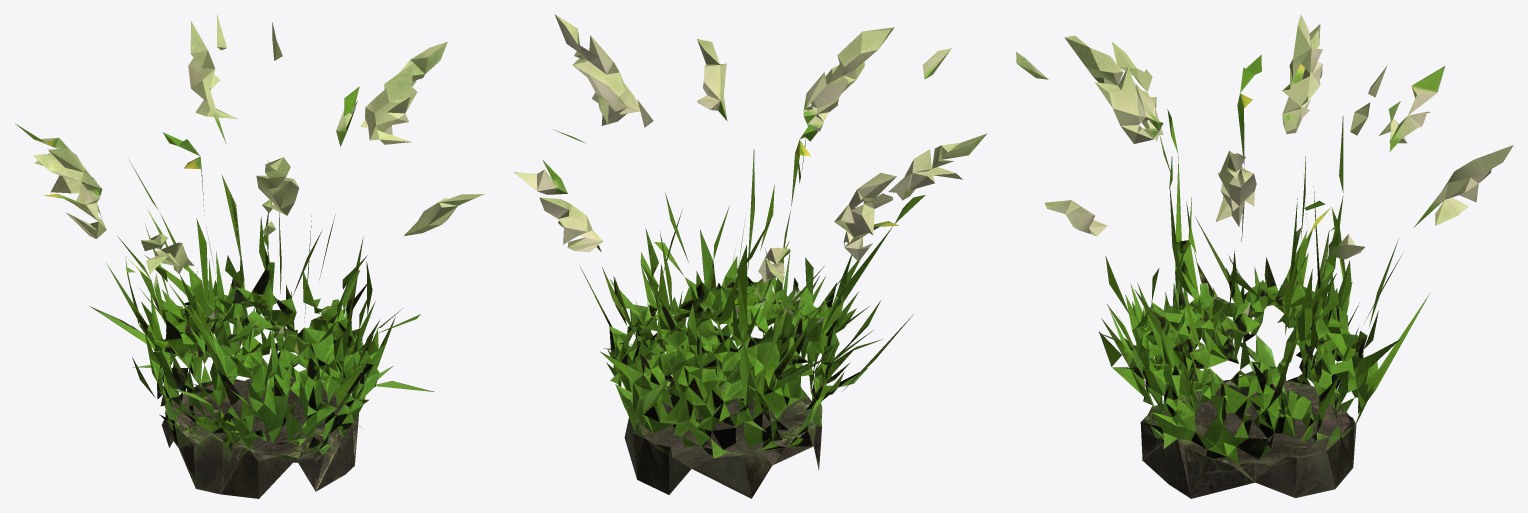
The model's file is grass_flower.glb.
The picture shows the model from 3 angles, left to right: view 1: azimuth 30°, elevation 25°; view 2: azimuth 150°, elevation 25°; view 3: azimuth 270°, elevation 25°; orthographic projection. The views are drawn at different scales.
Size of the model in its own units: 1.69 by 1.71 by 1.88.
1 material, 1 textured.
